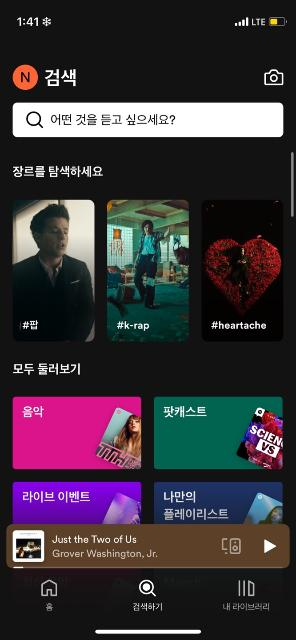Bottom_Navigation: (0, 568, 296, 614)
EditText: (12, 104, 284, 136)
Icon: (264, 68, 282, 86), (237, 580, 255, 598), (221, 538, 240, 554), (25, 112, 43, 128), (138, 580, 156, 596), (40, 580, 57, 596), (264, 538, 276, 552)
Image: (108, 200, 190, 344), (15, 198, 95, 342), (201, 200, 283, 340), (13, 396, 141, 468), (155, 398, 283, 470), (13, 481, 141, 525), (155, 482, 284, 522), (13, 530, 45, 562)
Text: (52, 535, 158, 559), (163, 490, 229, 520), (50, 114, 176, 126), (14, 166, 104, 178), (22, 490, 90, 502), (14, 363, 80, 375), (46, 69, 76, 87), (163, 407, 207, 418), (224, 602, 270, 612), (212, 322, 266, 330), (116, 322, 150, 331), (134, 602, 162, 612), (22, 406, 44, 418), (22, 320, 38, 330), (46, 602, 53, 612)
TextButton: (14, 64, 38, 90)
TextImageButton: (222, 579, 270, 611), (133, 578, 163, 612), (40, 580, 58, 610)
UpperTaskBar: (0, 1, 296, 38)
